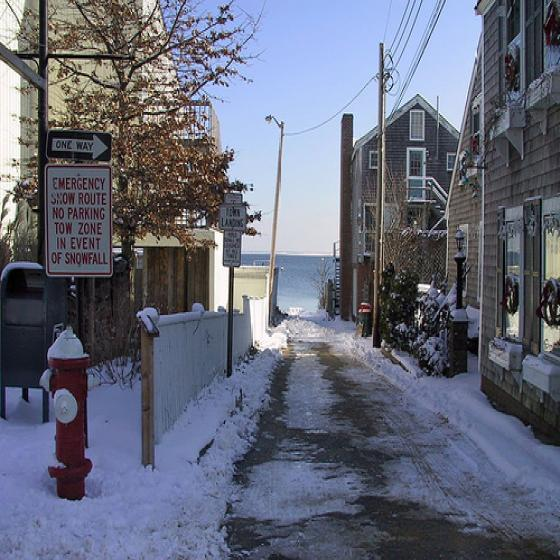fire hydrant: (41, 325, 93, 502)
